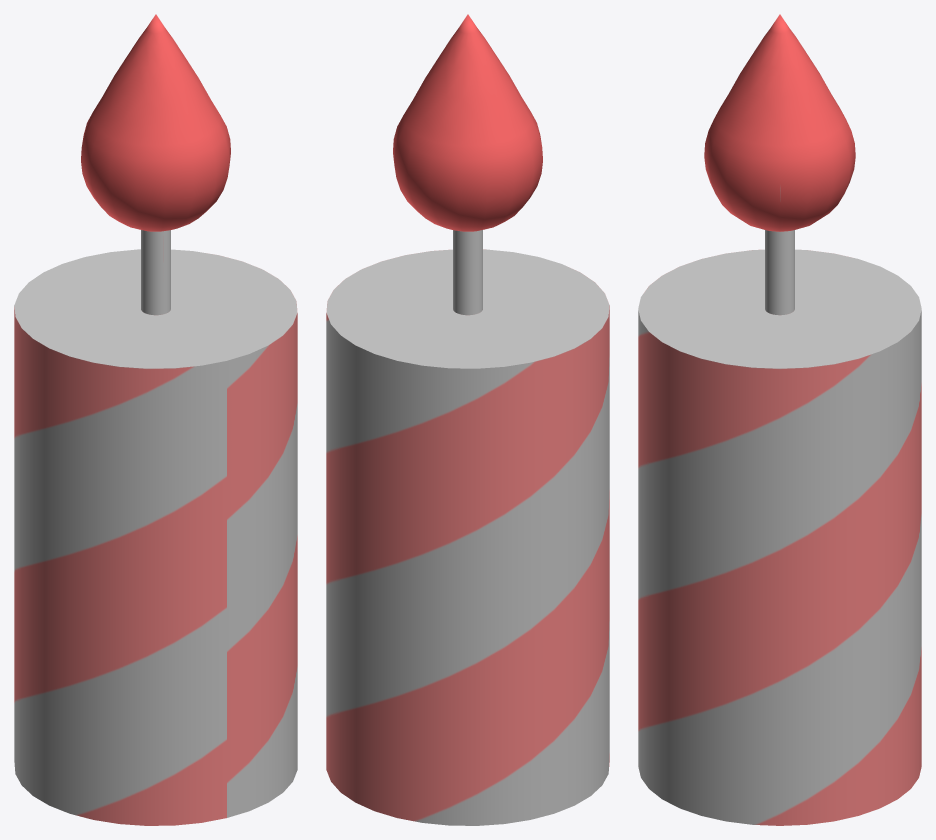
Rendered from candle2.fbx.
3 renders of one model, left to right at view 1: azimuth 30°, elevation 25°; view 2: azimuth 150°, elevation 25°; view 3: azimuth 270°, elevation 25°, orthographic.
Visible parts, largest first — view 1: Cylinder; view 2: Cylinder; view 3: Cylinder.
Boxes of the visible parts, left/top/right/bottom form: Cylinder: left=14, top=14, right=297, bottom=825; Cylinder: left=326, top=14, right=609, bottom=825; Cylinder: left=638, top=14, right=921, bottom=825.
Bounding box in the file's own units: 1.12 × 3.29 × 1.12.
Materials: 1 (1 with a texture image).
